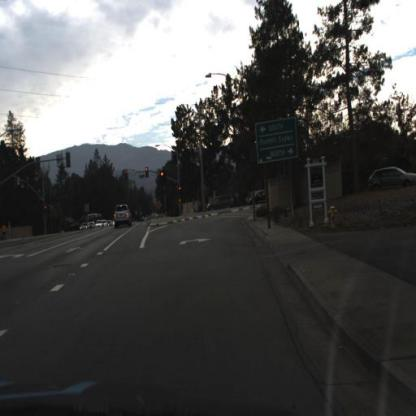car: (367, 167, 416, 191), (207, 194, 235, 213), (113, 203, 132, 230), (249, 190, 270, 208)
trafficLight-Red: (160, 170, 165, 186), (145, 165, 150, 180), (178, 185, 183, 196)
trafficLight-RedLeft: (124, 167, 130, 183)
